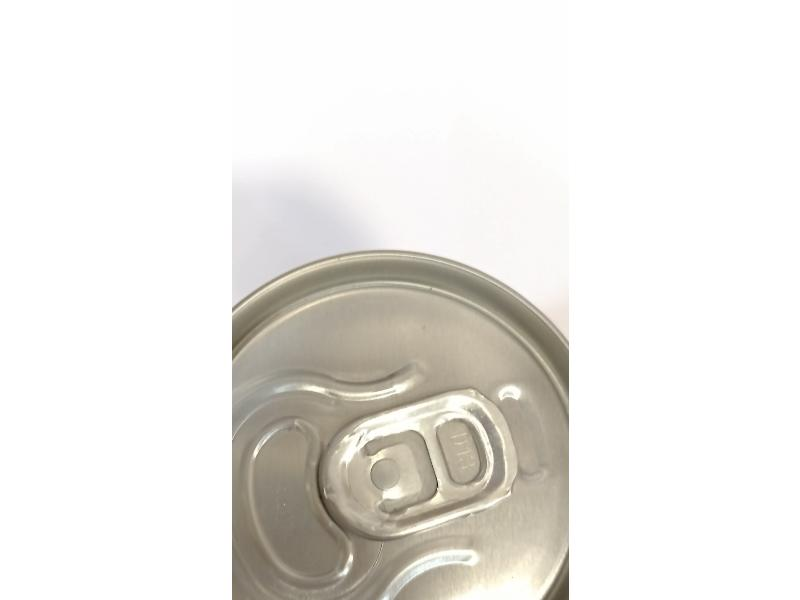can: (194, 240, 569, 600)
